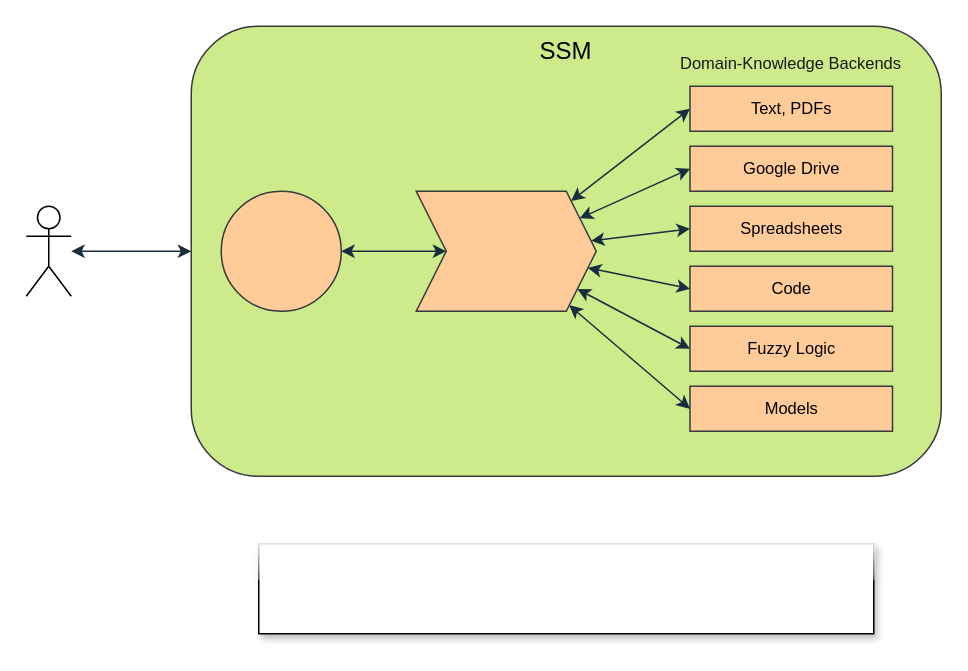
Some shapes in this 968 by 671 pixel diagram are drawn without their labels. The centre of each missing label's shape, as x and y in pixels:
"Adapter (e.g., LlamaIndex)" goes at point (505, 250).
"OpenSSM Key Components SLM → Adapter → Backends" goes at point (567, 590).
"SLM (Small Language Model)" goes at point (280, 250).
"User" goes at point (48, 250).
